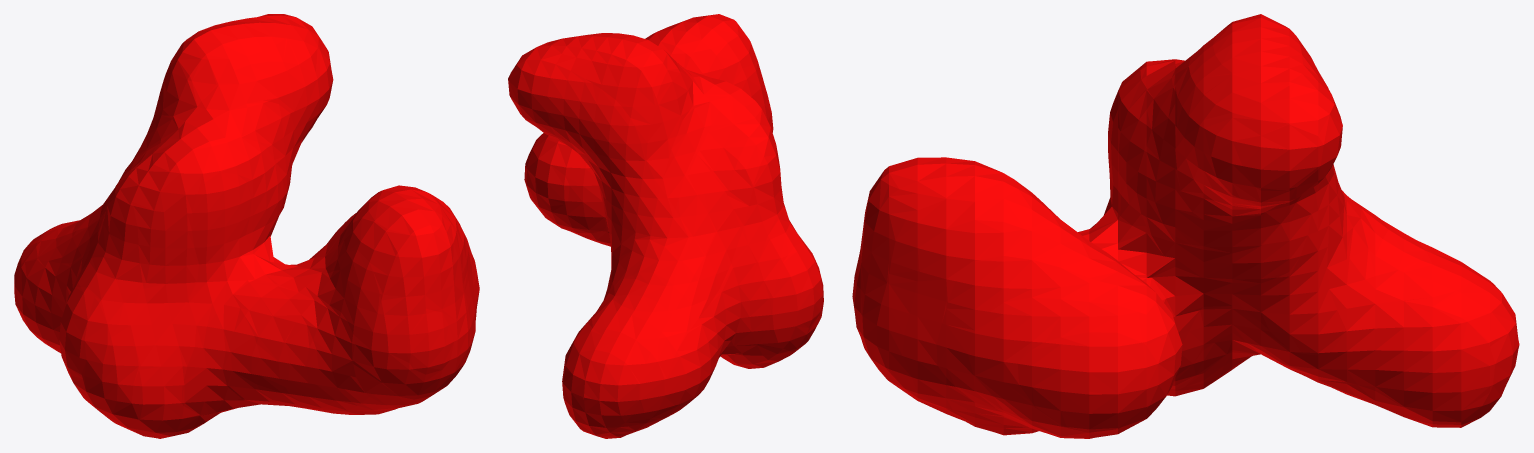
The model's file is hupA_coarse.dae.
3 renders of one model, left to right at view 1: azimuth 30°, elevation 25°; view 2: azimuth 150°, elevation 25°; view 3: azimuth 270°, elevation 25°, orthographic. The views are drawn at different scales.
Visible parts, largest first — view 1: hupA; view 2: hupA; view 3: hupA.
Boxes of the visible parts, x1,y1,x2,y2 form: hupA: [14, 14, 479, 438]; hupA: [508, 14, 823, 438]; hupA: [852, 14, 1519, 438].
Bounding box in the file's own units: 36.16 × 35.6 × 49.74.
